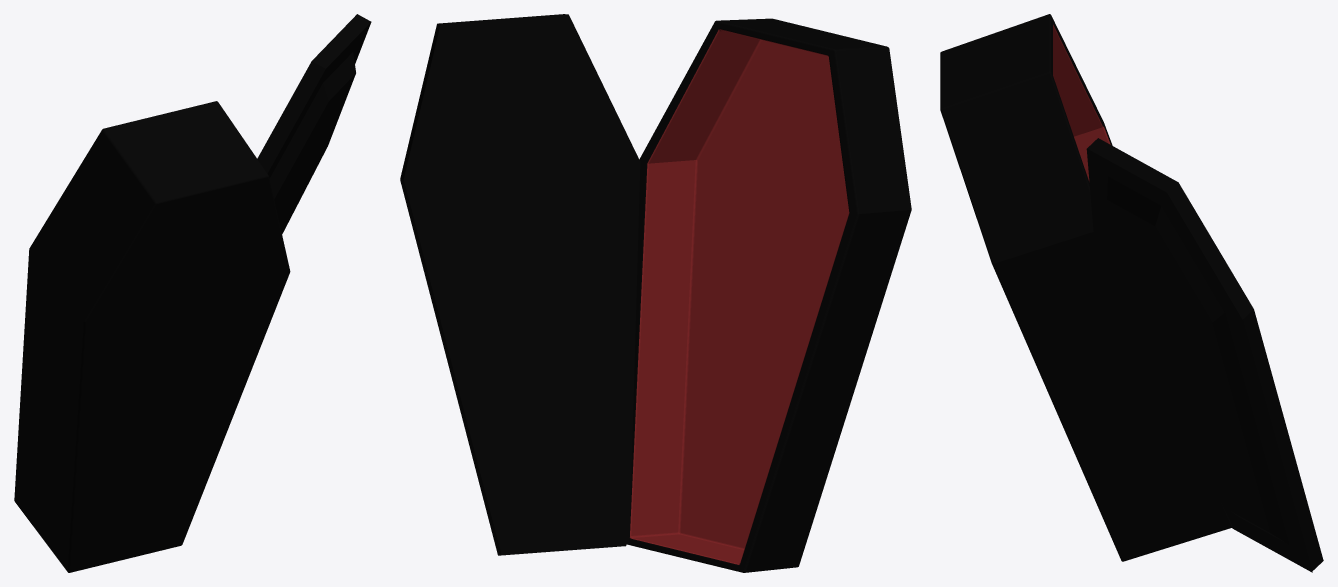
The model's file is coffin.fbx.
The picture shows the model from 3 angles, left to right: view 1: azimuth 30°, elevation 25°; view 2: azimuth 150°, elevation 25°; view 3: azimuth 270°, elevation 25°; orthographic projection. The views are drawn at different scales.
Visible parts, largest first — view 1: Base, Tapa; view 2: Base, Tapa; view 3: Base, Tapa.
Part boxes in pixels (<box>): Base: <box>14,101,290,572</box>; Tapa: <box>257,14,371,234</box>; Base: <box>627,18,911,572</box>; Tapa: <box>400,14,640,555</box>; Base: <box>940,14,1232,561</box>; Tapa: <box>1086,138,1323,572</box>.
Bounding box in the file's own units: 224 × 191 × 269.
